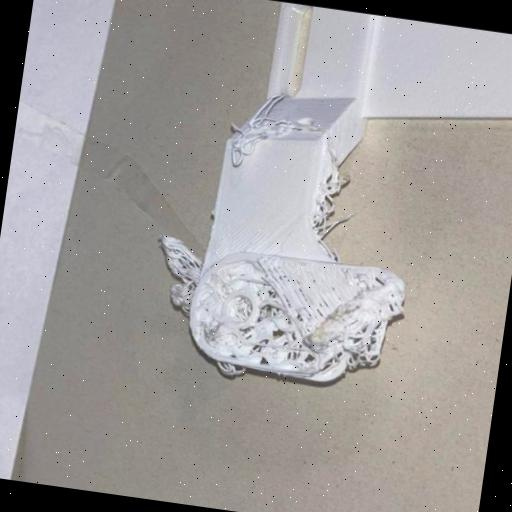spaghetti: (341, 297, 396, 370), (310, 164, 354, 236), (156, 232, 208, 286), (225, 118, 275, 166)
